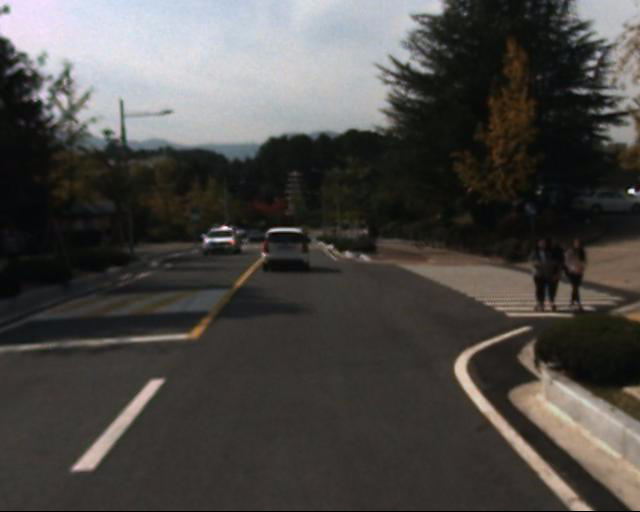person: (552, 232, 600, 311), (513, 232, 558, 311), (541, 224, 578, 318)
